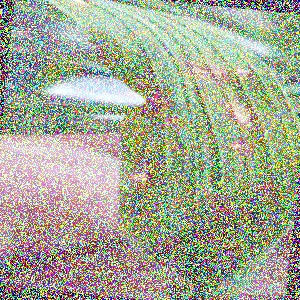Brown_Spot: (218, 97, 269, 147), (151, 234, 194, 291), (125, 72, 172, 122), (175, 54, 234, 89), (124, 144, 162, 198), (201, 181, 236, 222), (229, 49, 260, 92), (212, 227, 249, 262), (218, 131, 257, 158), (245, 172, 279, 199), (89, 29, 115, 60), (167, 137, 197, 160), (55, 0, 96, 14), (165, 113, 187, 129)
